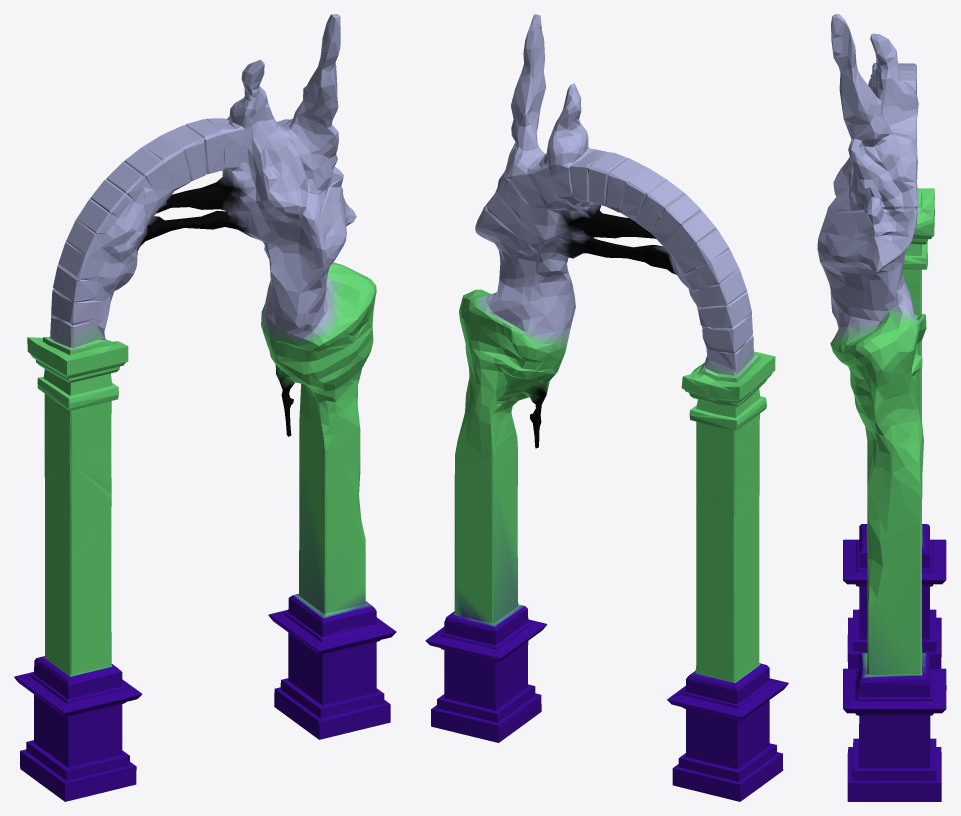
File: Arch_low.fbx
The picture shows the model from 3 angles, left to right: view 1: azimuth 30°, elevation 25°; view 2: azimuth 150°, elevation 25°; view 3: azimuth 270°, elevation 25°; orthographic projection. The views are drawn at different scales.
Visible parts, largest first — view 1: Arch_low; view 2: Arch_low; view 3: Arch_low.
Boxes of the visible parts, x1,y1,x2,y2 form: Arch_low: (14,14,396,801); Arch_low: (425,14,788,801); Arch_low: (817,14,946,801).
Size of the model in its own units: 1740 by 3629 by 561.
